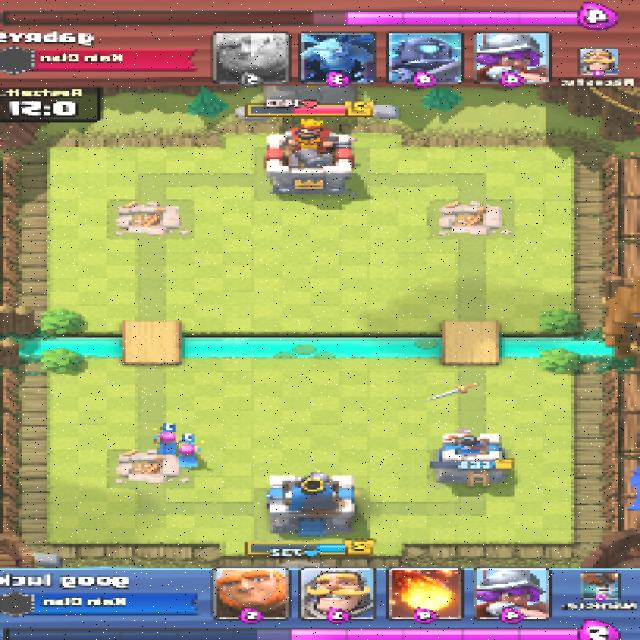Player-Archer: (172, 444, 206, 469), (151, 426, 180, 454)
